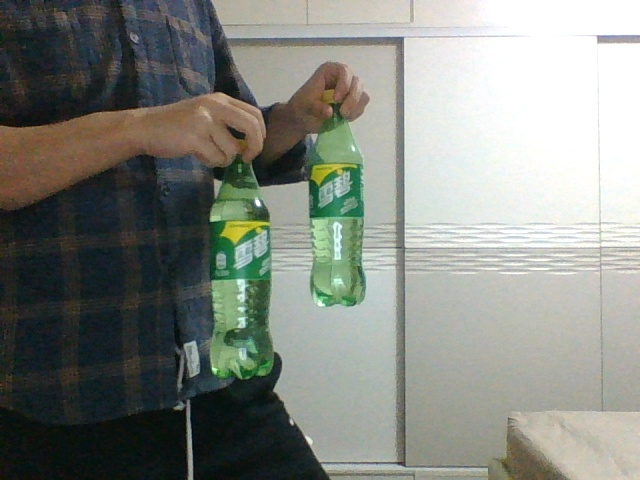Sprite: (209, 138, 273, 380), (310, 88, 367, 308)
